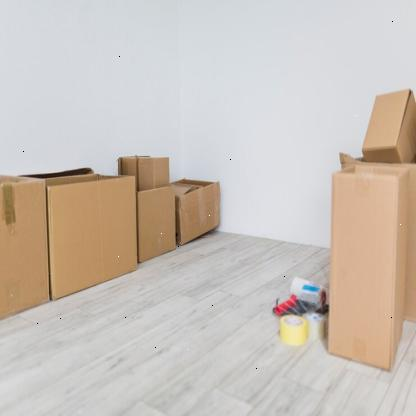box: (329, 174, 397, 374), (50, 174, 138, 300), (0, 178, 54, 322), (137, 184, 177, 268), (362, 89, 412, 149), (178, 179, 221, 245), (138, 157, 170, 190)
